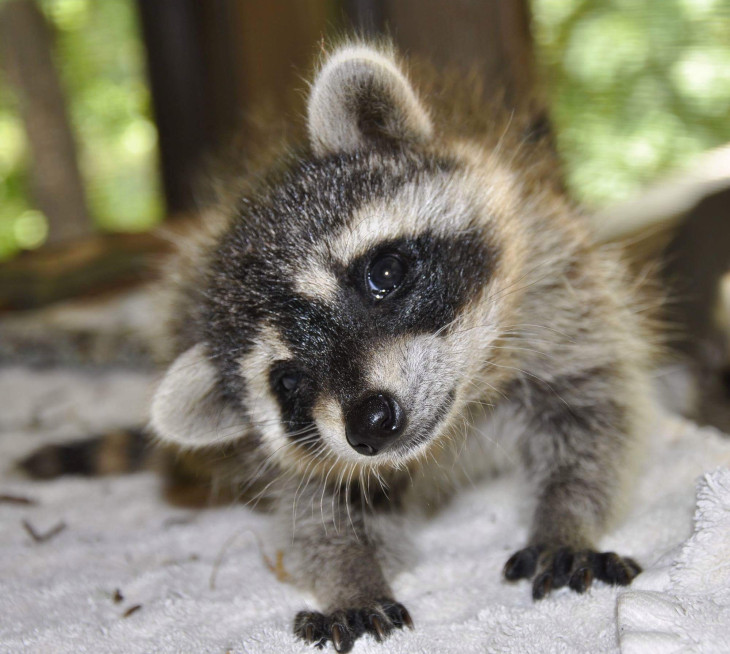raccoon: (175, 21, 675, 654)
